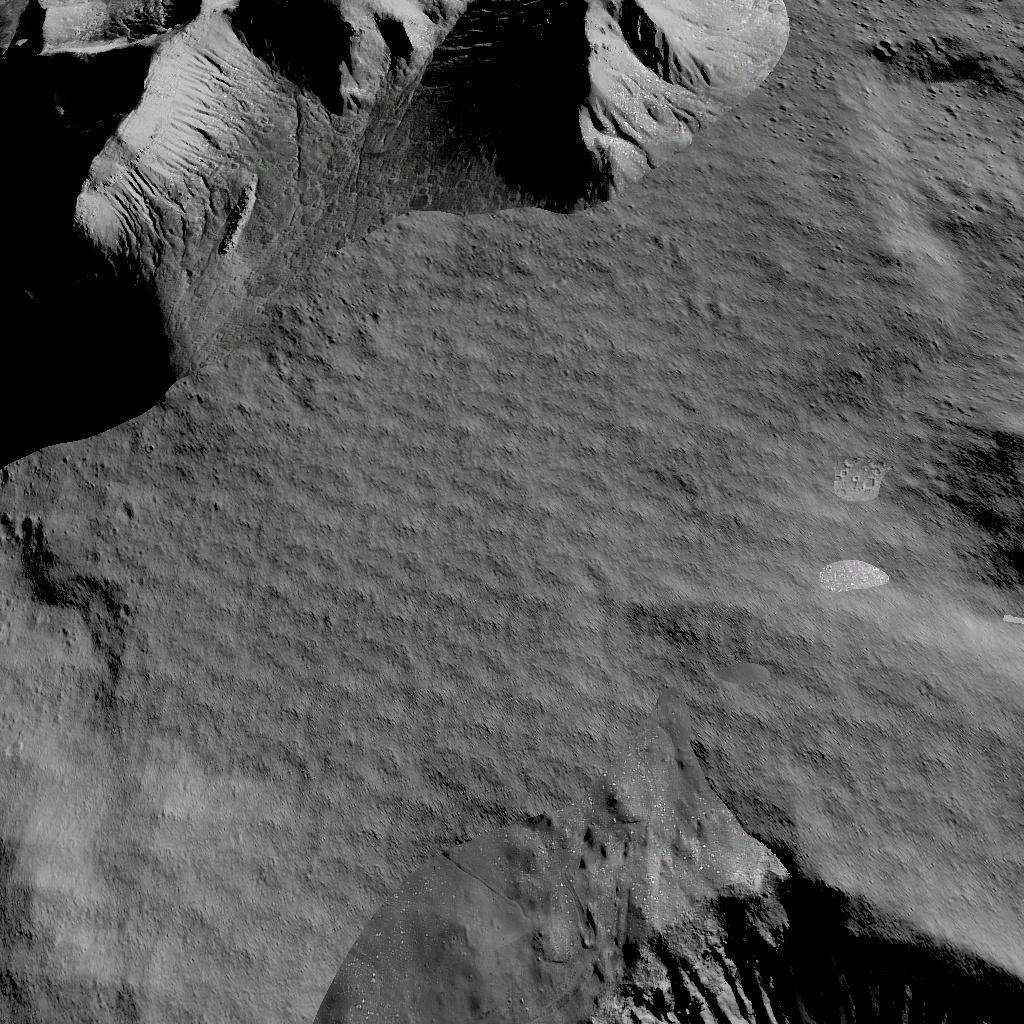Boulders: (0, 0, 790, 463)
Crater: (313, 828, 1024, 1024), (923, 412, 1024, 600), (856, 28, 1020, 98)
Plan surface: (316, 478, 913, 812), (0, 475, 301, 1024), (803, 110, 1024, 398)
